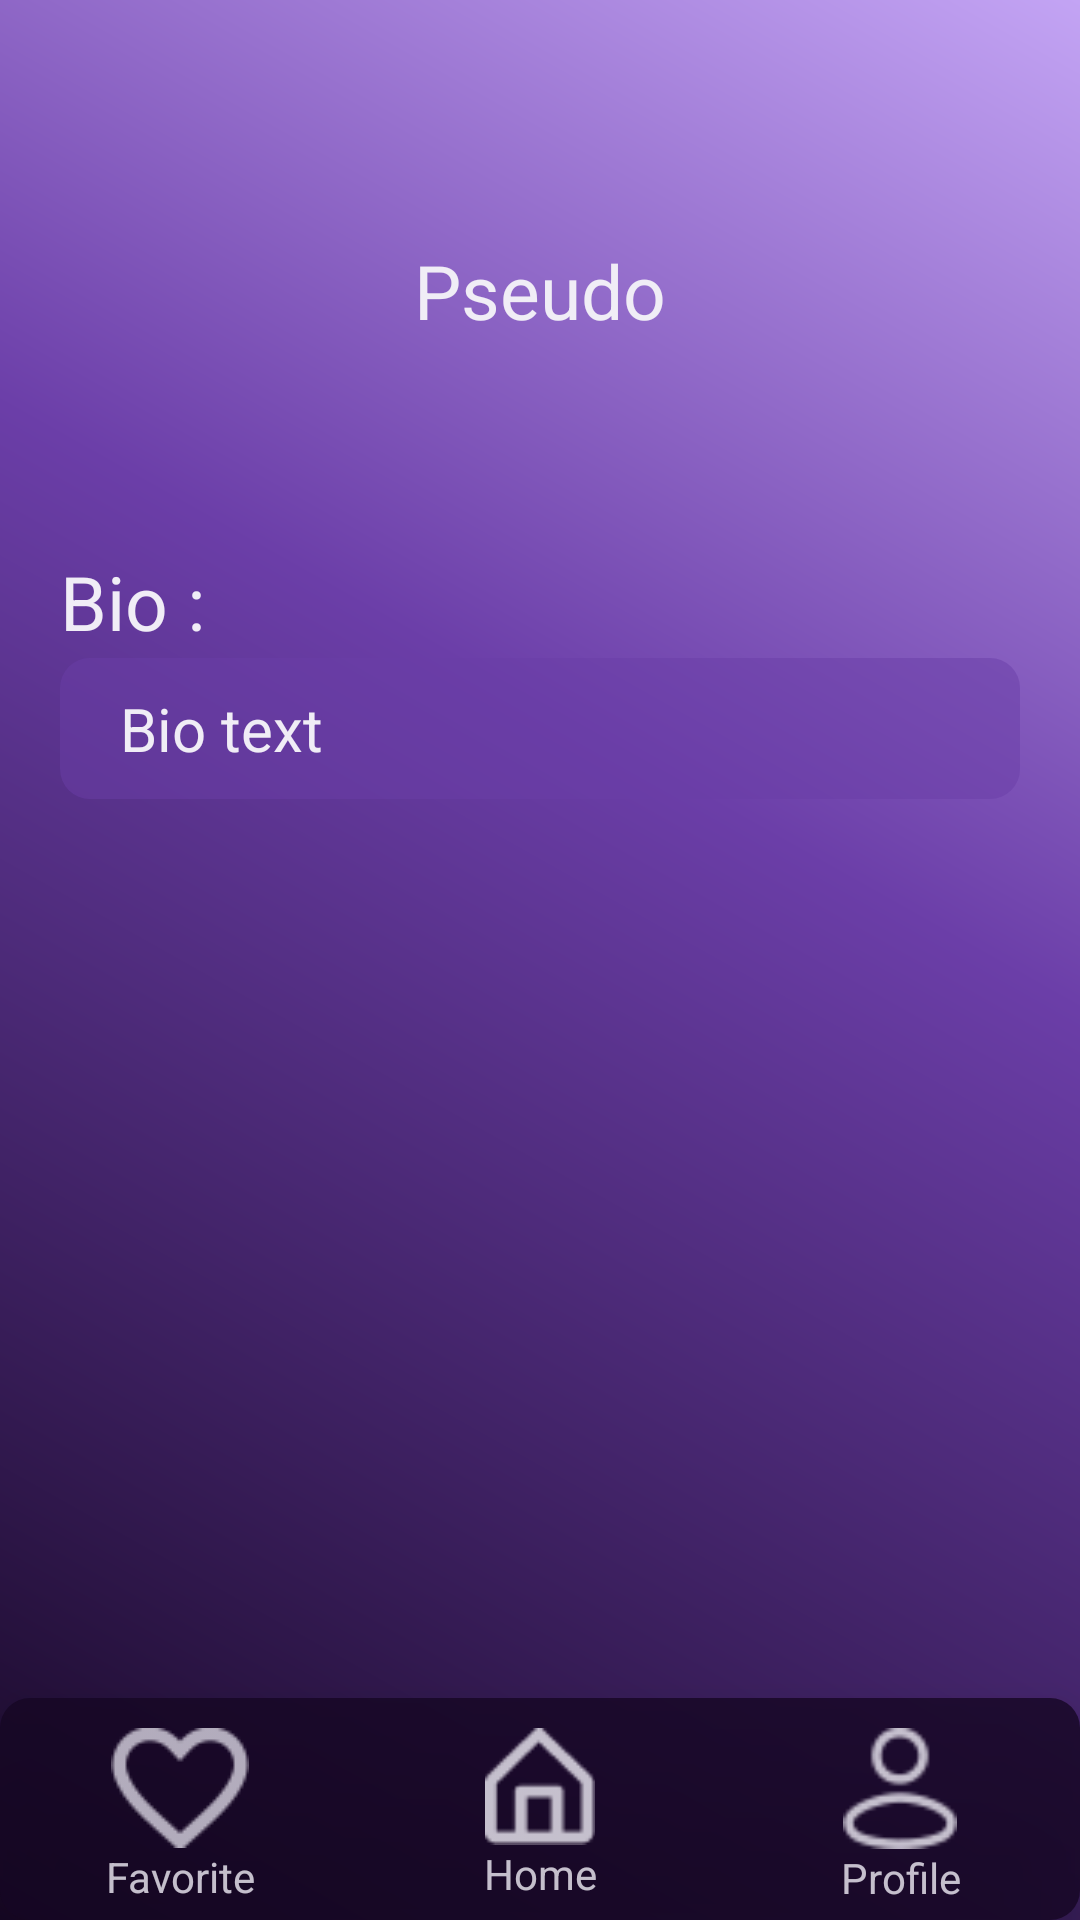

Icon bounding boxes for this 1080×1920 phone screenshot, format box=[x1, y1, x2, y2]:
user: box=[843, 1728, 957, 1849]
